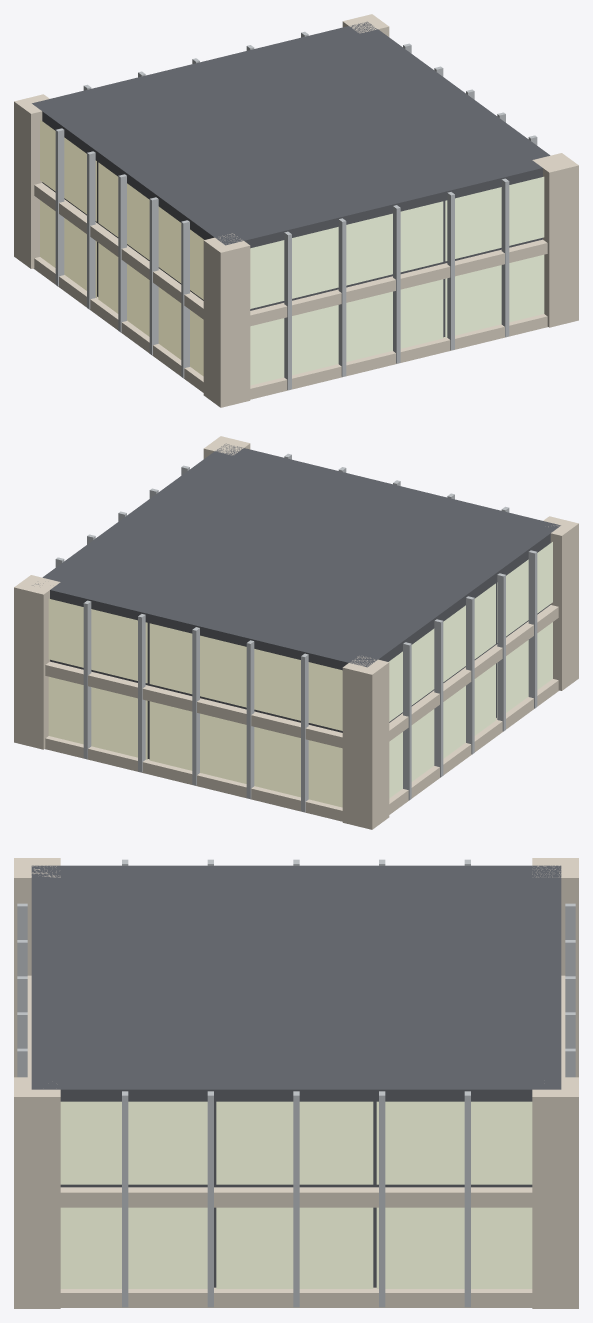
The model's file is SM_Tower_Floor2.fbx.
The picture shows the model from 3 angles, top to bottom: view 1: azimuth 30°, elevation 25°; view 2: azimuth 150°, elevation 25°; view 3: azimuth 270°, elevation 25°; orthographic projection. The views are drawn at different scales.
Parts seen in each view (by area): view 1: SM_Tower_Floor2; view 2: SM_Tower_Floor2; view 3: SM_Tower_Floor2.
Part boxes in pixels (x1,y1,x2,y2): SM_Tower_Floor2: [14, 14, 578, 407]; SM_Tower_Floor2: [14, 436, 578, 829]; SM_Tower_Floor2: [14, 858, 578, 1308].
Size of the model in its own units: 1450 by 603 by 1450.
